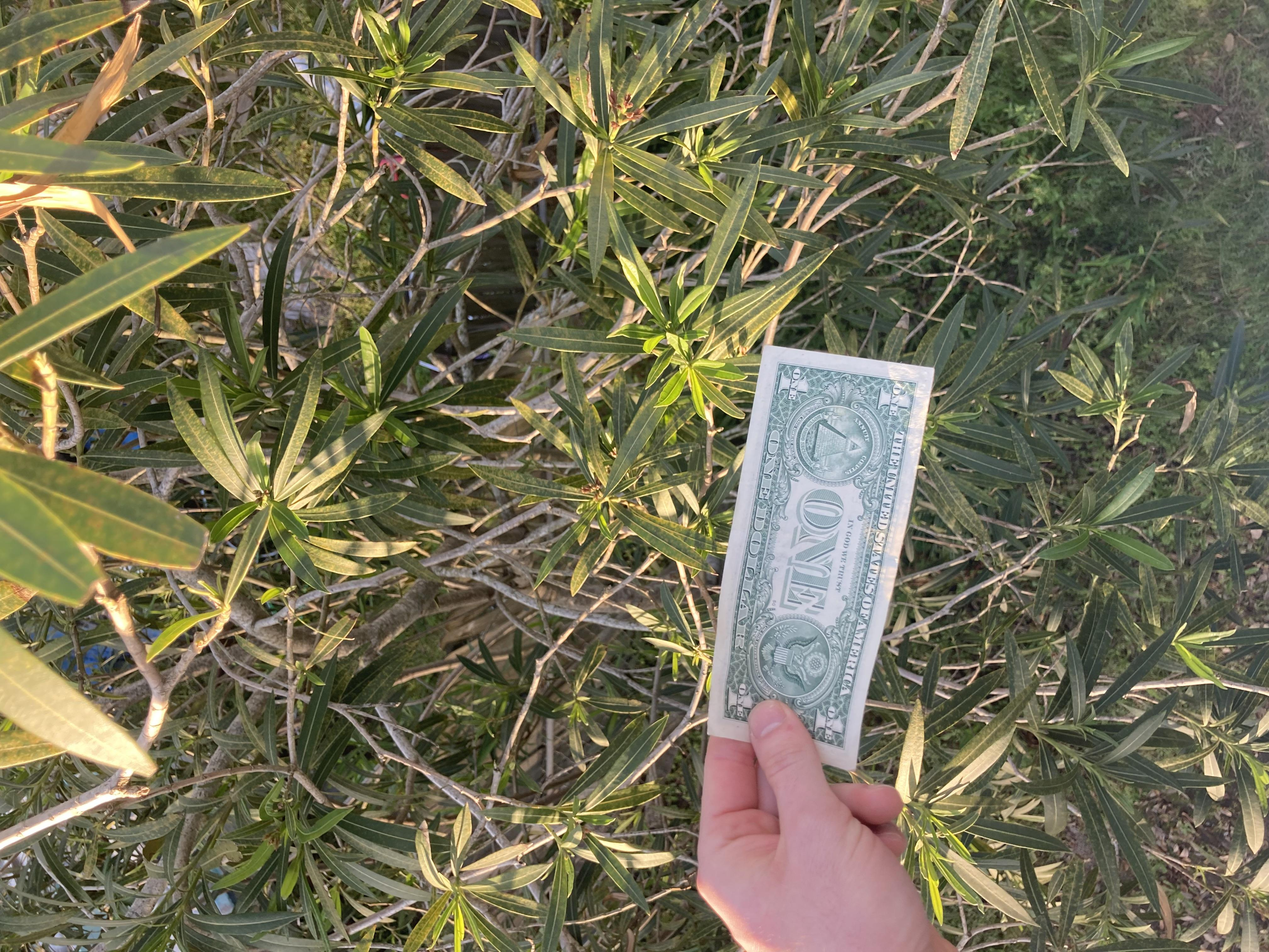one-back: (242, 531, 811, 701)
